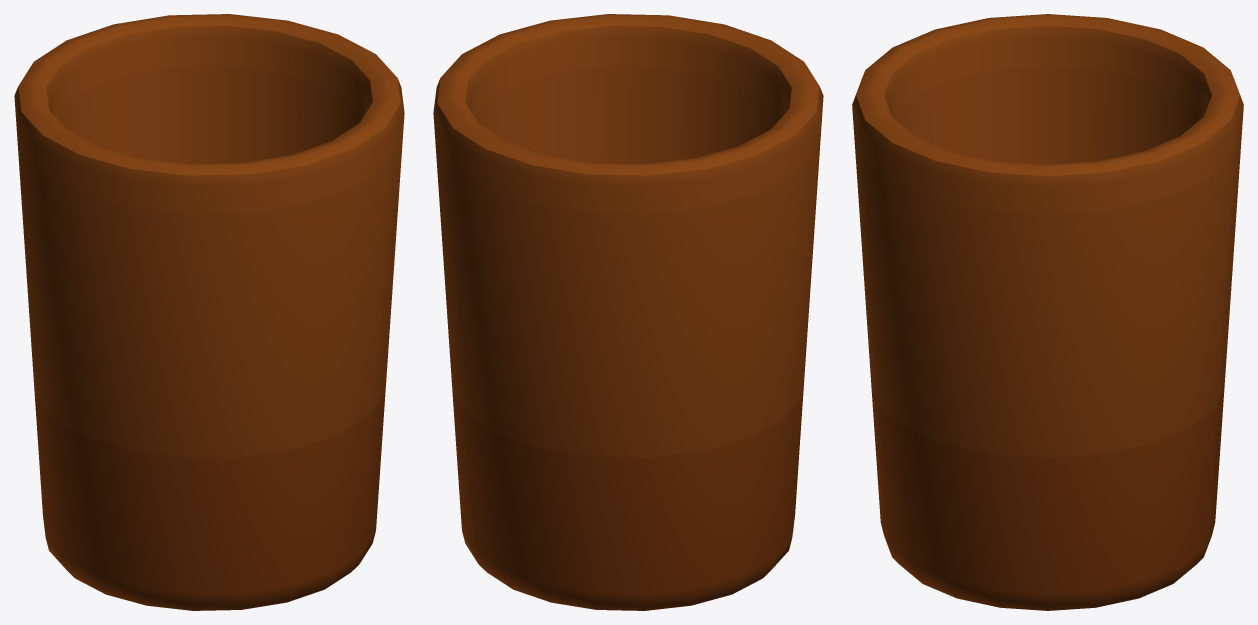
File: Cup.glb
3 views of the same model, side by side, from view 1: azimuth 30°, elevation 25°; view 2: azimuth 150°, elevation 25°; view 3: azimuth 270°, elevation 25° (orthographic).
Parts seen in each view (by area): view 1: Cup; view 2: Cup; view 3: Cup.
Boxes of the visible parts, x1,y1,x2,y2 form: Cup: (14,14,404,610); Cup: (433,14,823,610); Cup: (852,14,1243,610).
Bounding box in the file's own units: 0.0734 × 0.0947 × 0.0734.
1 material, 1 textured.
